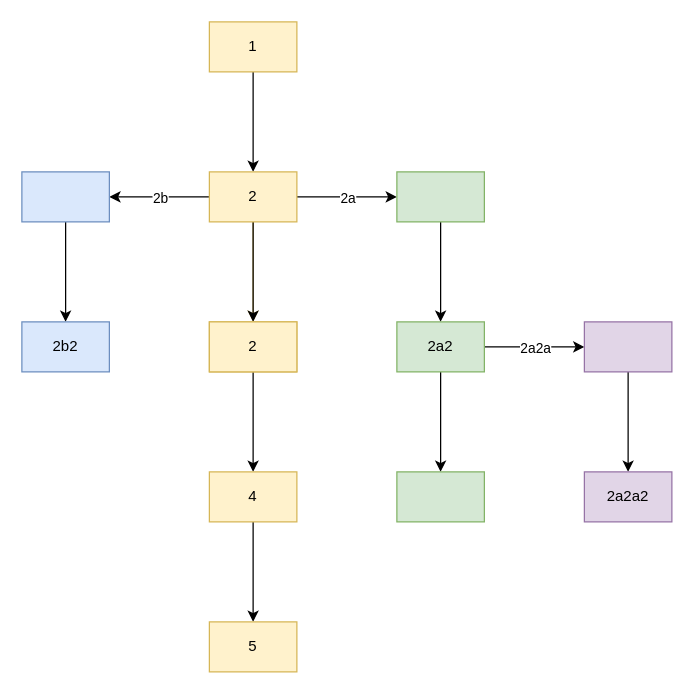
The diagram is 694 pixels wide and 694 high, and some of its shapes have lost their labels. The centre of each missing label's shape, as x and y in pixels:
"2a1" belongs at (x=440, y=196).
"2a2a1" belongs at (x=627, y=346).
"2a3" belongs at (x=440, y=496).
"2b1" belongs at (x=65, y=196).
